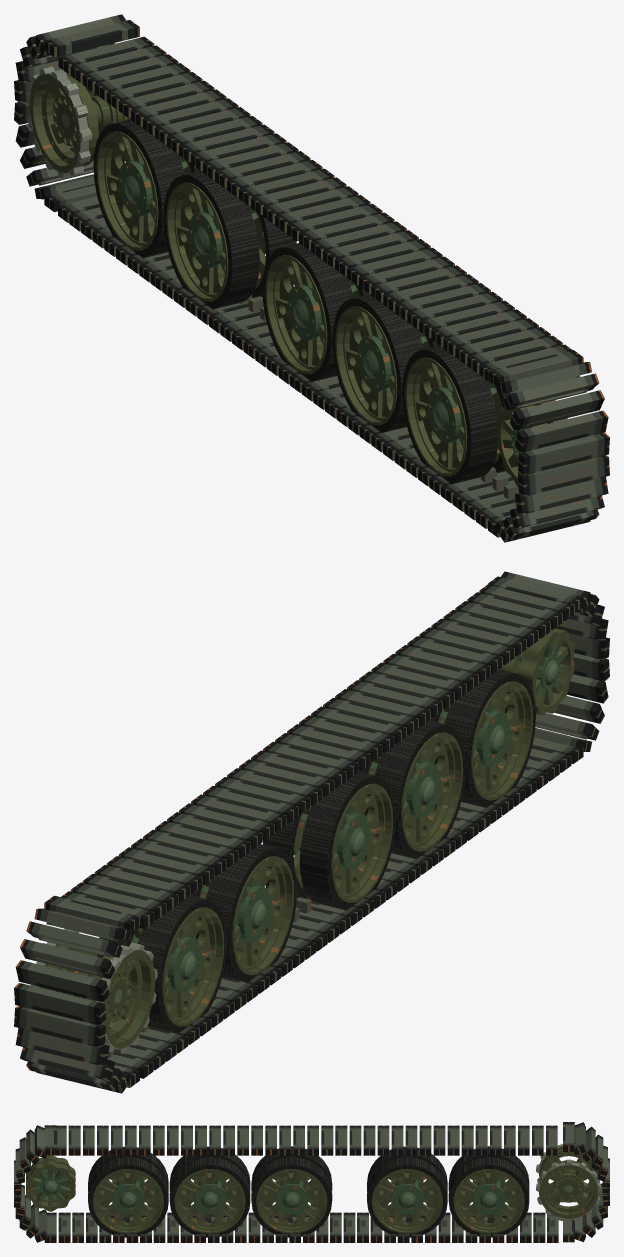
Rendered from running_gear_L.glb.
The picture shows the model from 3 angles, top to bottom: view 1: azimuth 30°, elevation 25°; view 2: azimuth 150°, elevation 25°; view 3: azimuth 270°, elevation 25°; orthographic projection. The views are drawn at different scales.
Visible parts, largest first — view 1: TrackL_mesh, tire_in.003, tire_in, tire_in.001, tire_in.002, tire_in.004, tooth_rim_in, flange_in, rim_in.001, rim_in.002, rim_in.004, rim_in (+25 smaller); view 2: TrackL_mesh, tire_in.002, tire_in.004, tire_in.003, tire_in, tire_in.001, band_in, tooth_rim_in, rim_in.004, rim_in.003, rim_in, rim_in.001 (+26 smaller); view 3: TrackL_mesh, tire_out.002, tire_out, tire_out.003, tire_out.001, tire_out.004, disc_out, disc_out.003, disc_out.002, disc_out.004, disc_out.001, band_out (+39 smaller).
Part boxes in pixels (x1,y1,x2,y2): TrackL_mesh: (14, 14, 609, 542); tire_in.003: (163, 170, 259, 309); tire_in: (402, 345, 497, 484); tire_in.001: (332, 294, 423, 432); tire_in.002: (262, 243, 353, 381); tire_in.004: (93, 119, 184, 257); tooth_rim_in: (29, 72, 89, 173); flange_in: (41, 73, 98, 166); rim_in.001: (335, 306, 397, 425); rim_in.002: (265, 255, 327, 374); rim_in.004: (96, 131, 158, 250); rim_in: (405, 357, 467, 476); TrackL_mesh: (14, 571, 609, 1093); tire_in.002: (299, 771, 395, 910); tire_in.004: (137, 895, 227, 1033); tire_in.003: (206, 844, 297, 982); tire_in: (444, 669, 535, 807); tire_in.001: (375, 720, 465, 859); band_in: (517, 628, 574, 715); tooth_rim_in: (96, 948, 154, 1049); rim_in.004: (162, 907, 224, 1026); rim_in.003: (232, 856, 294, 975); rim_in: (471, 681, 533, 800); rim_in.001: (401, 732, 463, 851); TrackL_mesh: (14, 1122, 609, 1242); tire_out.002: (251, 1157, 332, 1237); tire_out: (88, 1157, 168, 1237); tire_out.003: (367, 1157, 447, 1237); tire_out.001: (169, 1157, 250, 1237); tire_out.004: (448, 1157, 529, 1237); disc_out: (96, 1171, 160, 1227); disc_out.003: (375, 1171, 439, 1227); disc_out.002: (259, 1171, 323, 1227); disc_out.004: (457, 1171, 521, 1227); disc_out.001: (178, 1171, 242, 1227); band_out: (26, 1160, 75, 1211).
Size of the model in its own units: 0.58 by 1.09 by 5.98.
Materials: 8 (8 with a texture image).
